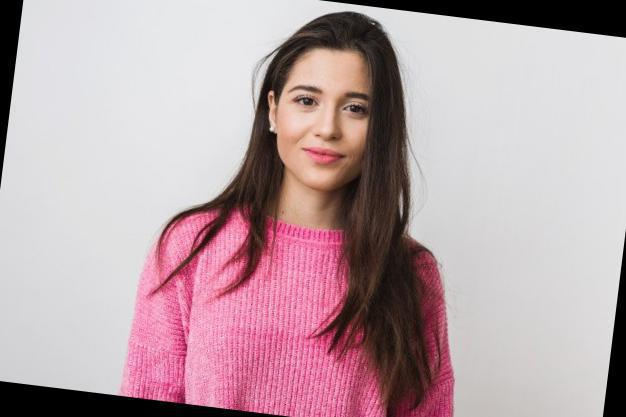Sober: (288, 58, 366, 178)
